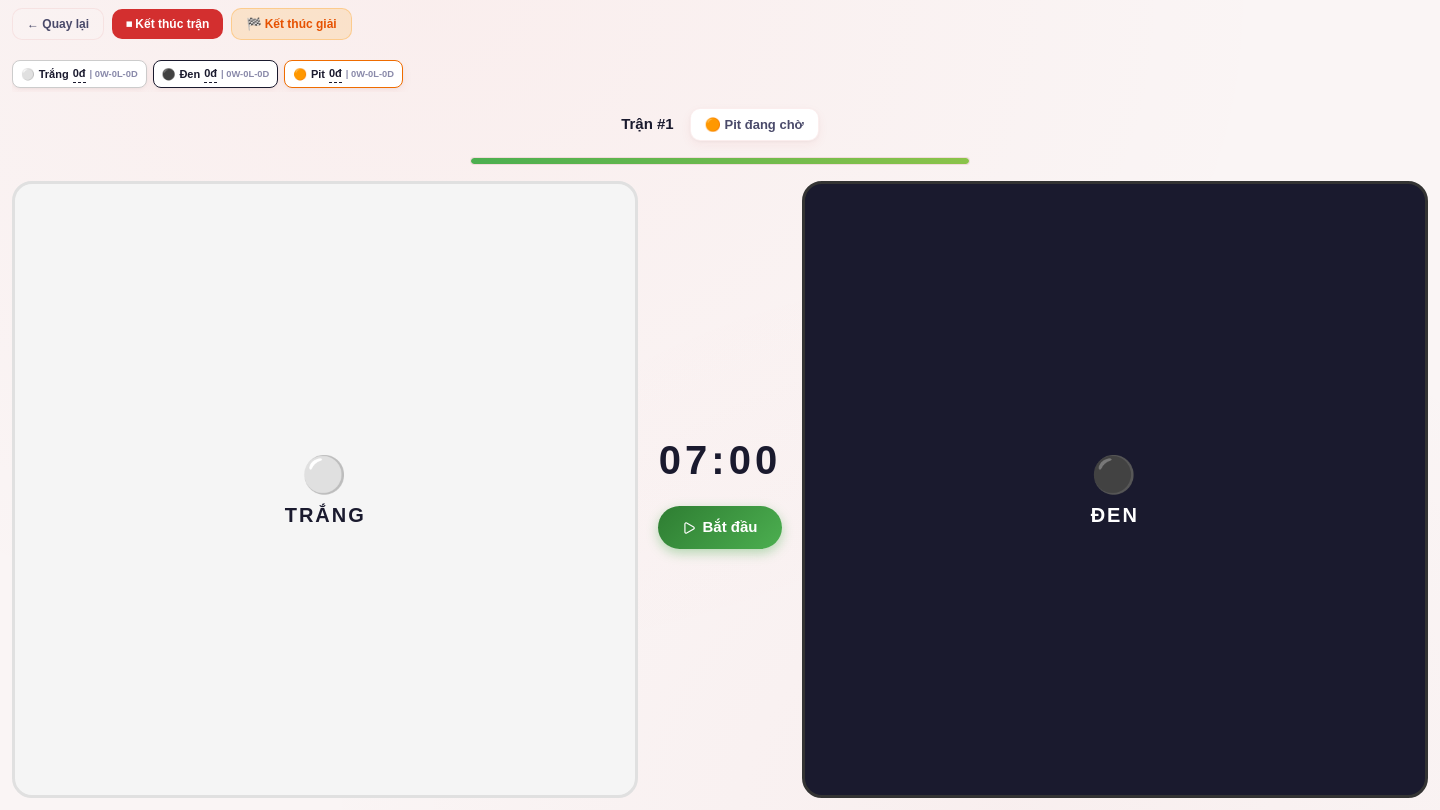
Test case: ThreeTeamMode › Playing phase - Đang thi đấu › click "⏹ Kết thúc trận" → chuyển sang scoring phase
Click the button "⏹ Kết thúc trận" at (168,24), box [112,9,223,39]
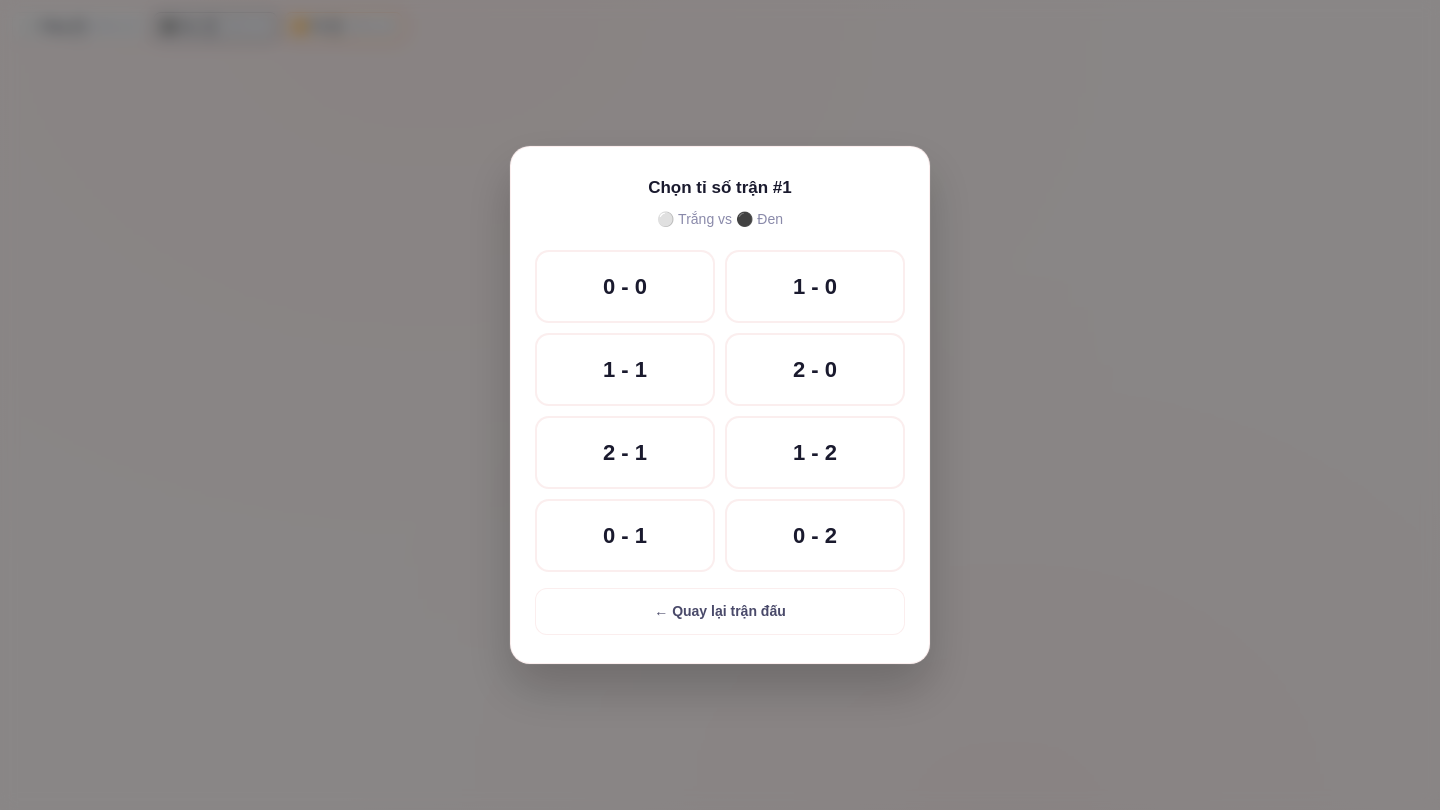
Now the heading "Chọn tỉ số trận #1" is shown, box [648,178,792,197]
